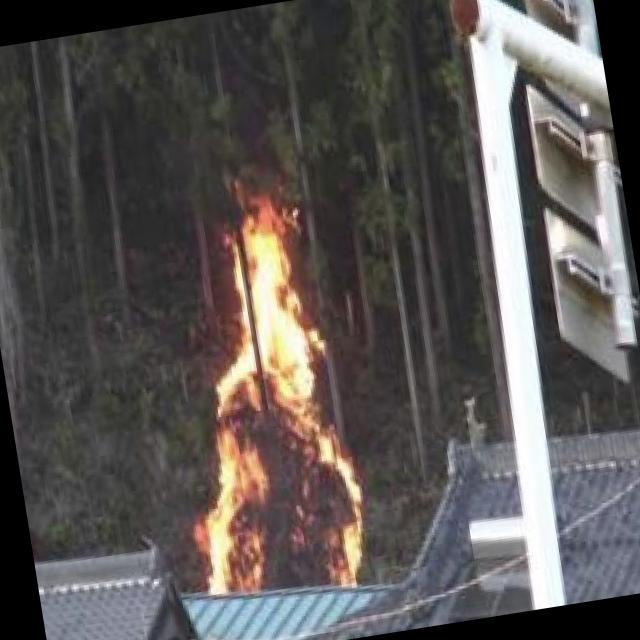Fire: (148, 194, 382, 606)
